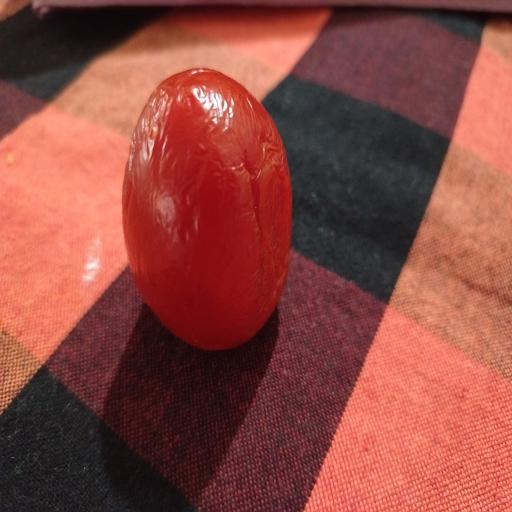spoiled: (122, 69, 291, 350)
